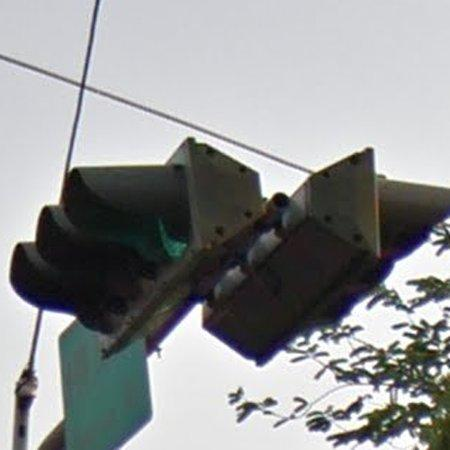traffic lights: (8, 136, 265, 352), (203, 142, 449, 366)
